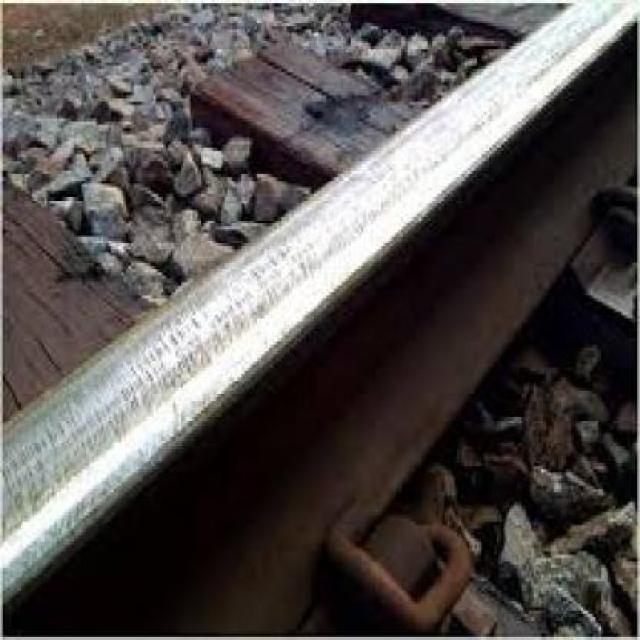defective: (150, 14, 552, 636)
